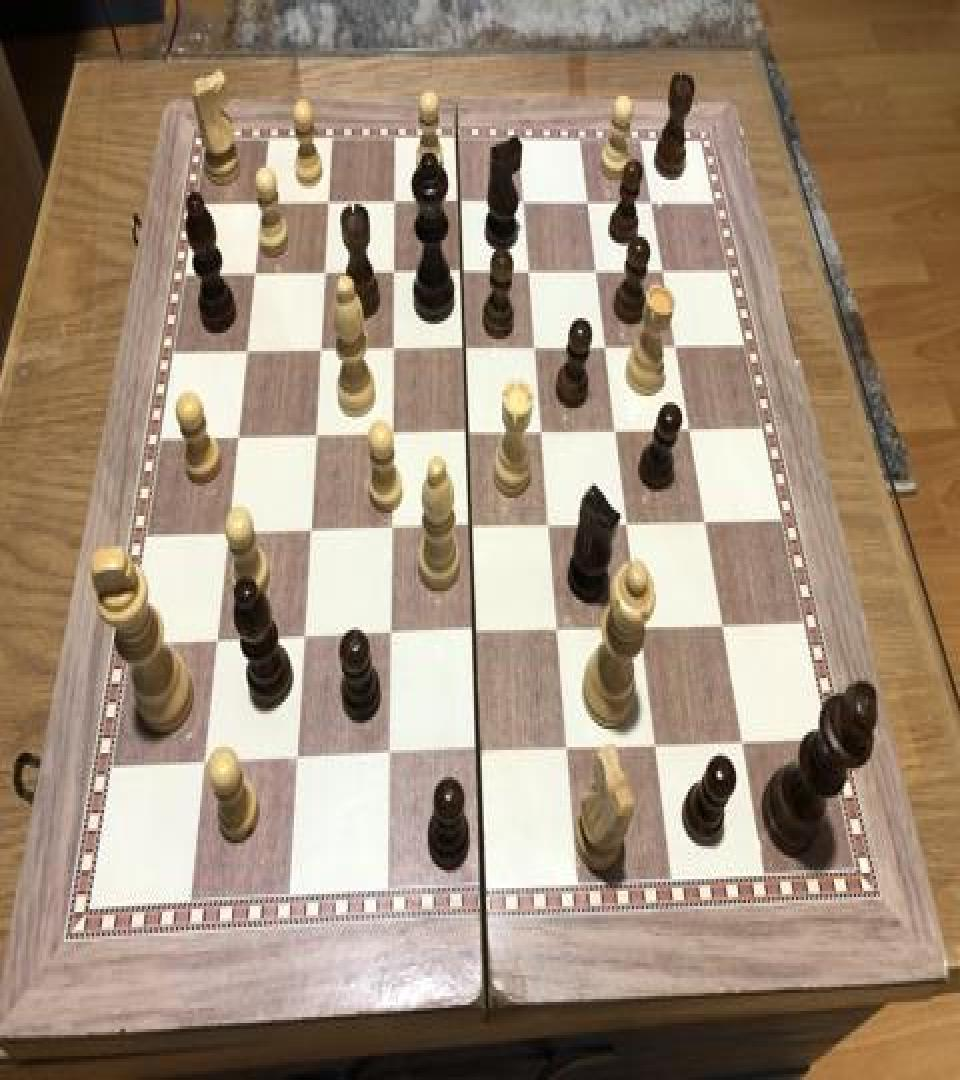xcorner: (468, 733, 492, 770), (287, 742, 311, 779), (640, 184, 664, 220), (577, 184, 601, 220), (514, 184, 538, 220), (450, 184, 474, 220), (385, 184, 409, 220), (320, 184, 344, 220), (253, 184, 277, 220), (651, 252, 675, 288), (586, 252, 610, 288), (519, 254, 543, 290), (452, 254, 476, 290), (384, 254, 408, 290), (315, 255, 339, 291), (246, 255, 270, 291), (664, 327, 688, 363), (455, 330, 479, 366), (383, 332, 407, 368), (311, 332, 335, 368), (238, 333, 262, 369), (678, 410, 702, 446), (605, 411, 629, 447), (457, 414, 481, 450), (382, 416, 406, 452), (306, 417, 330, 453), (229, 418, 253, 454), (693, 502, 717, 538), (616, 504, 640, 540), (539, 507, 563, 543), (460, 508, 484, 544), (381, 512, 405, 548), (300, 513, 324, 549), (218, 516, 242, 552), (710, 606, 734, 642), (629, 609, 653, 645), (547, 612, 571, 648), (464, 615, 488, 651), (379, 618, 403, 654), (294, 621, 318, 657), (207, 624, 231, 660), (729, 722, 753, 758), (643, 726, 667, 762), (556, 730, 580, 766), (378, 738, 402, 774), (194, 746, 218, 782), (595, 329, 619, 364), (525, 329, 549, 364), (532, 413, 556, 448)
